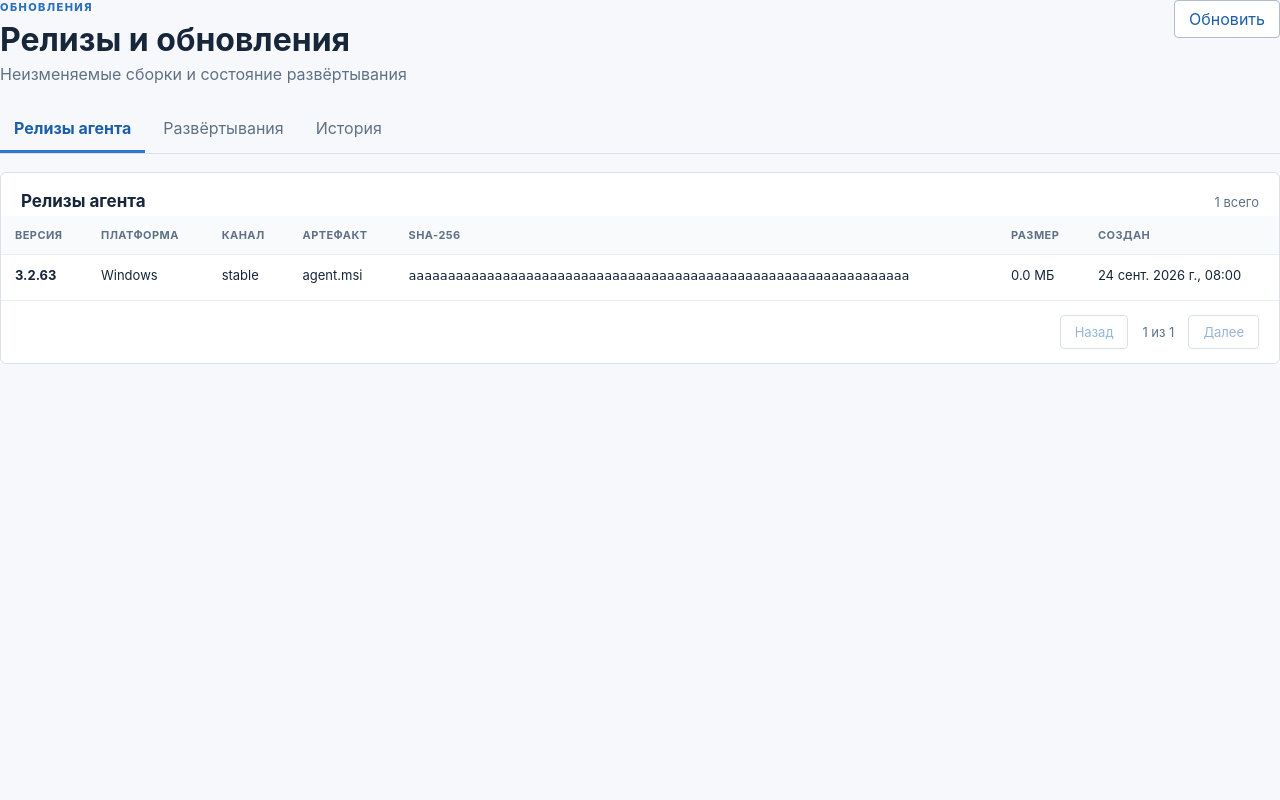
Русский интерфейс Console › называет канареечное обновление и список устройств по-русски
The image size is (1280, 800).
Expected: the heading "Релизы агента" is shown, x1=21 y1=191 x2=146 y2=211
Click the button "Развёртывания": click(223, 130) x1=149 y1=106 x2=298 y2=153
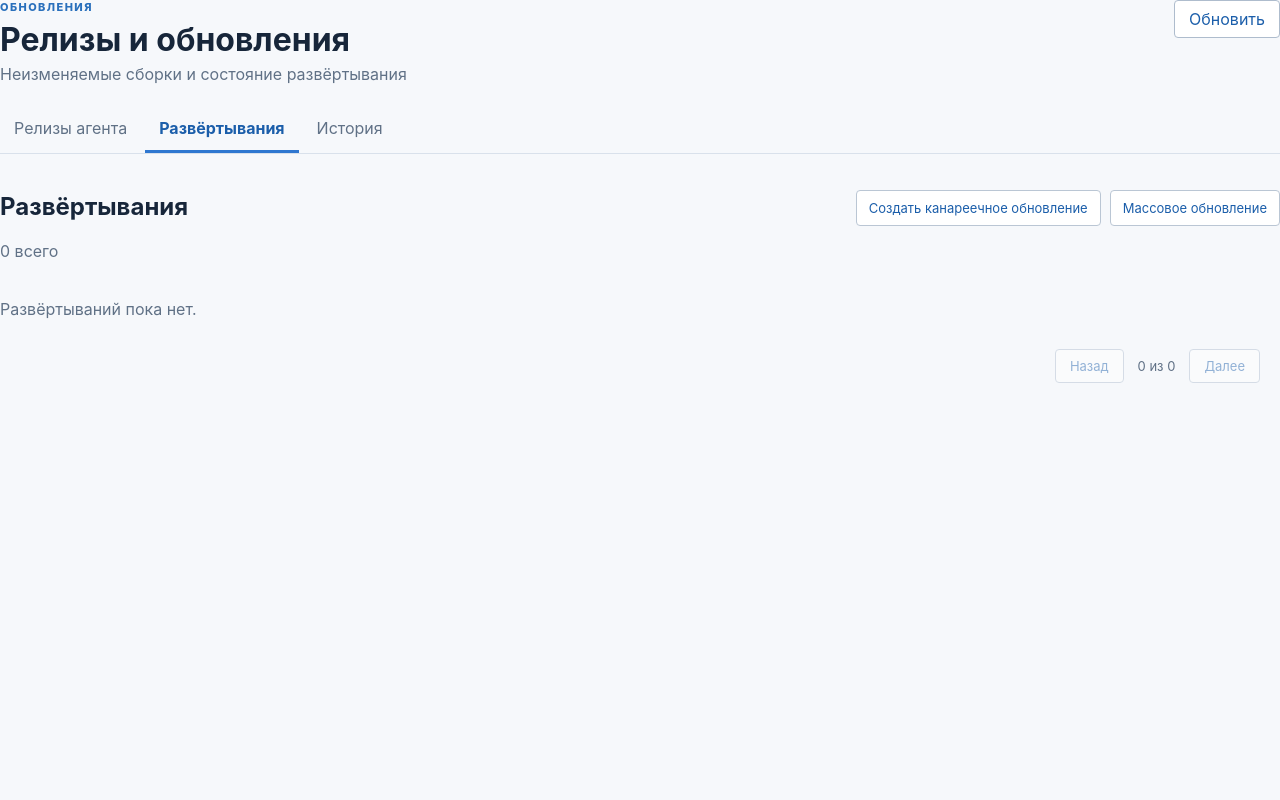
Click the button "Создать канареечное обновление": click(978, 208) x1=856 y1=190 x2=1101 y2=226
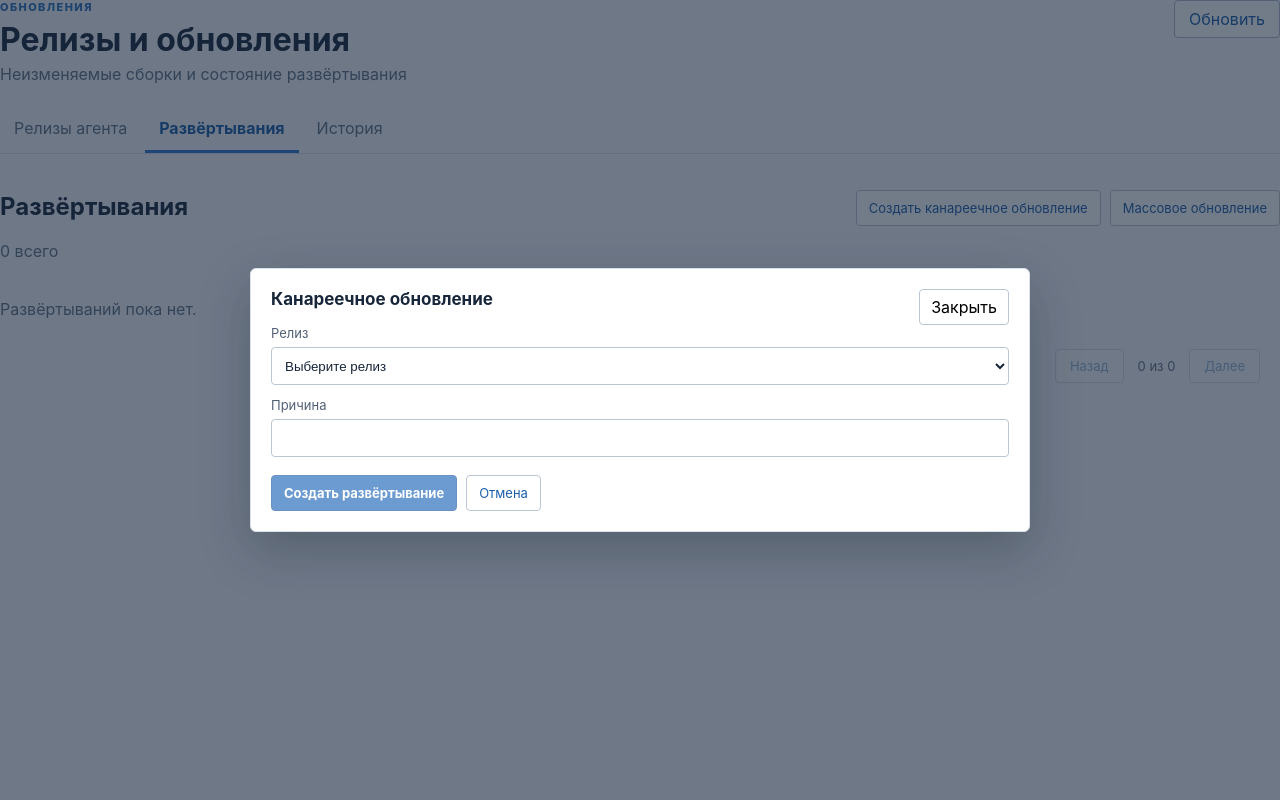
Expected: the heading "Канареечное обновление" is shown, x1=271 y1=289 x2=493 y2=309
Select "3.2.63 · Windows" in the dropdown labelled "Релиз": (640, 366) x1=271 y1=347 x2=1009 y2=385
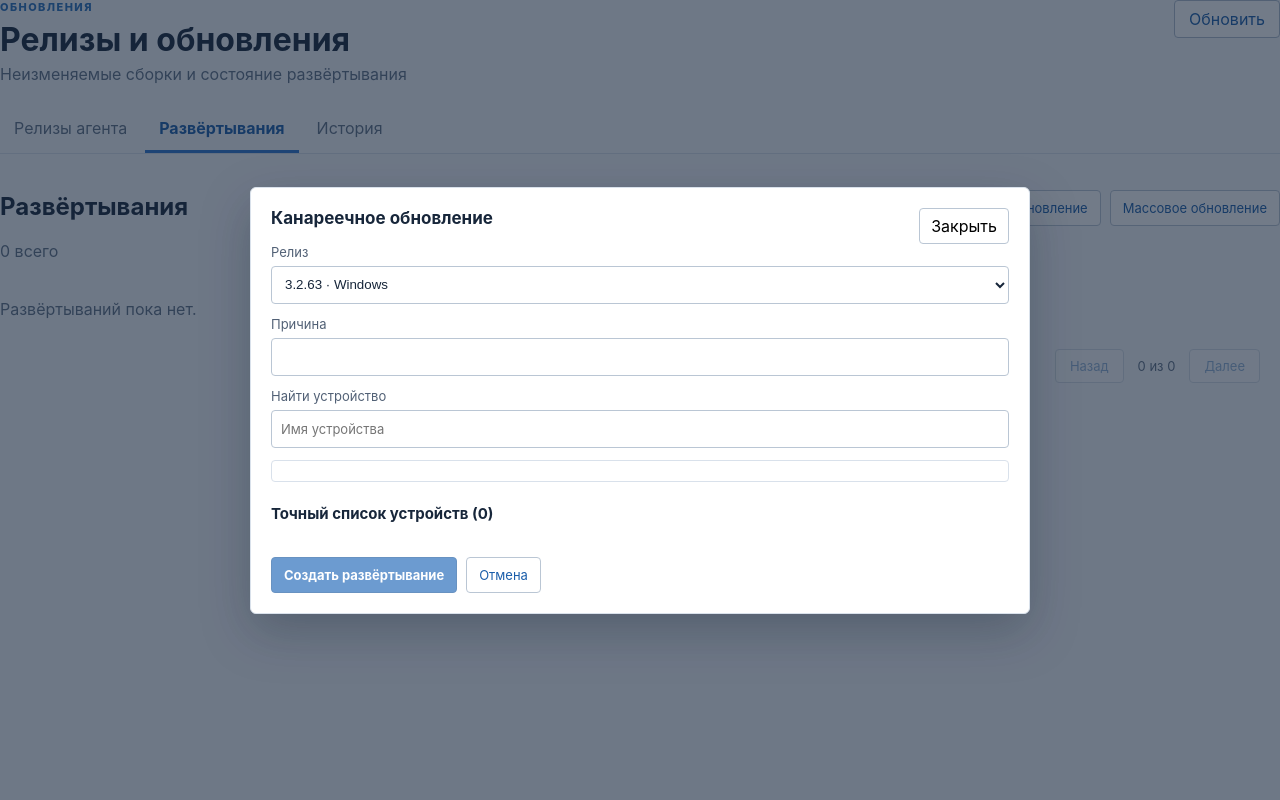
Expected: the heading "Точный список устройств (0)" is shown, x1=271 y1=504 x2=493 y2=522
